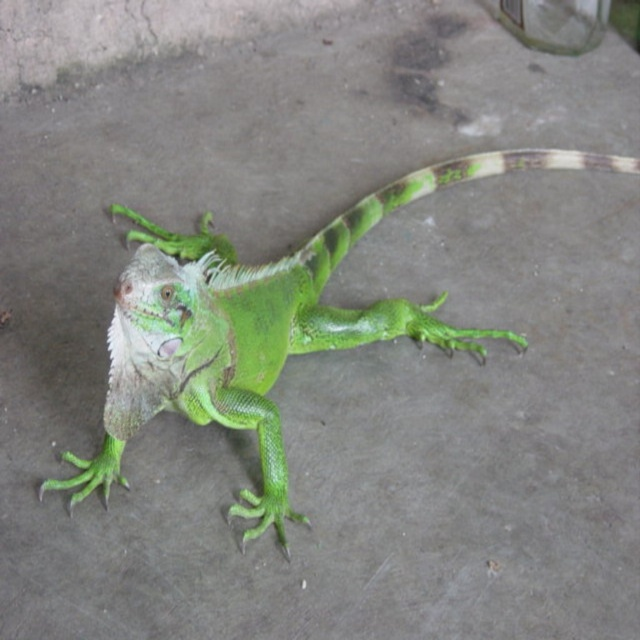Lizard: (38, 160, 639, 557)
